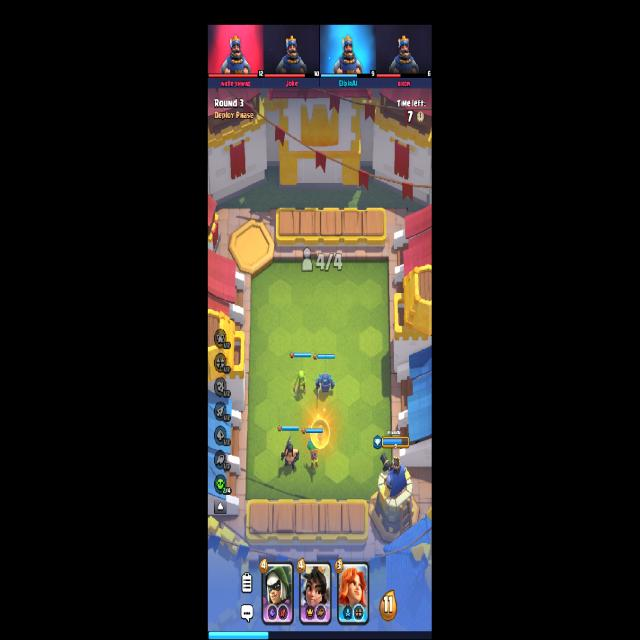card_bandit: (261, 561, 294, 625)
card_princess: (299, 560, 332, 625)
card_valkyrie: (337, 561, 369, 625)
dart_goblin: (307, 439, 321, 471)
executioner: (281, 435, 299, 470)
goblin: (294, 370, 306, 394)
mini_pekka: (315, 372, 335, 401)
